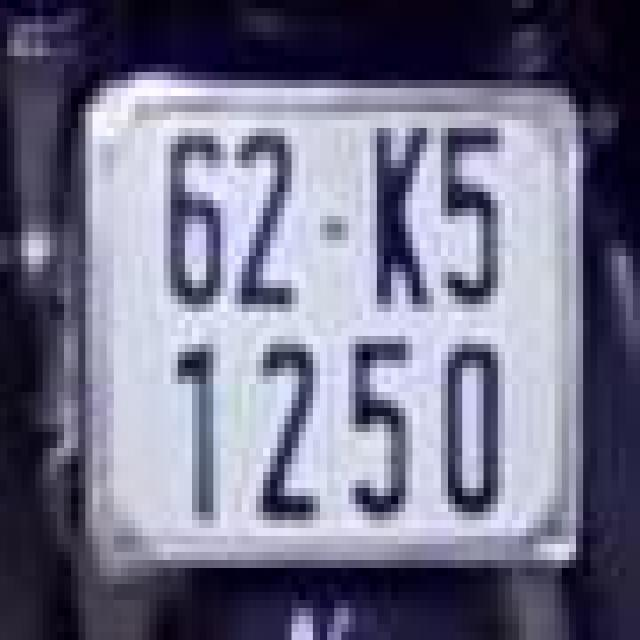0: (430, 328, 516, 528)
1: (167, 328, 231, 528)
2: (231, 116, 309, 316), (242, 340, 320, 524)
5: (334, 324, 420, 524), (438, 108, 516, 316)
6: (160, 112, 231, 328)
K: (356, 112, 434, 312)
